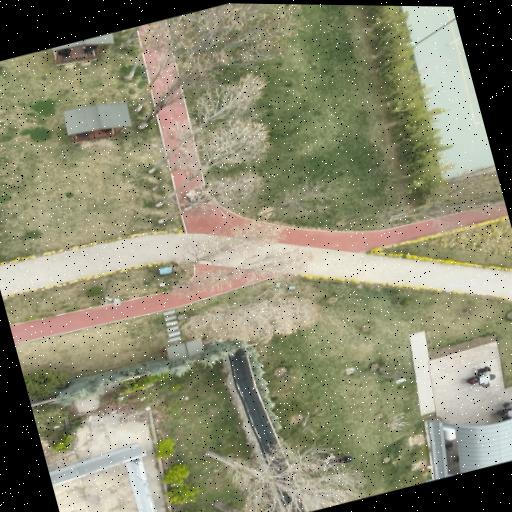person: (332, 455, 352, 463), (83, 44, 97, 51), (466, 377, 477, 384), (57, 49, 68, 56), (74, 132, 87, 137)
